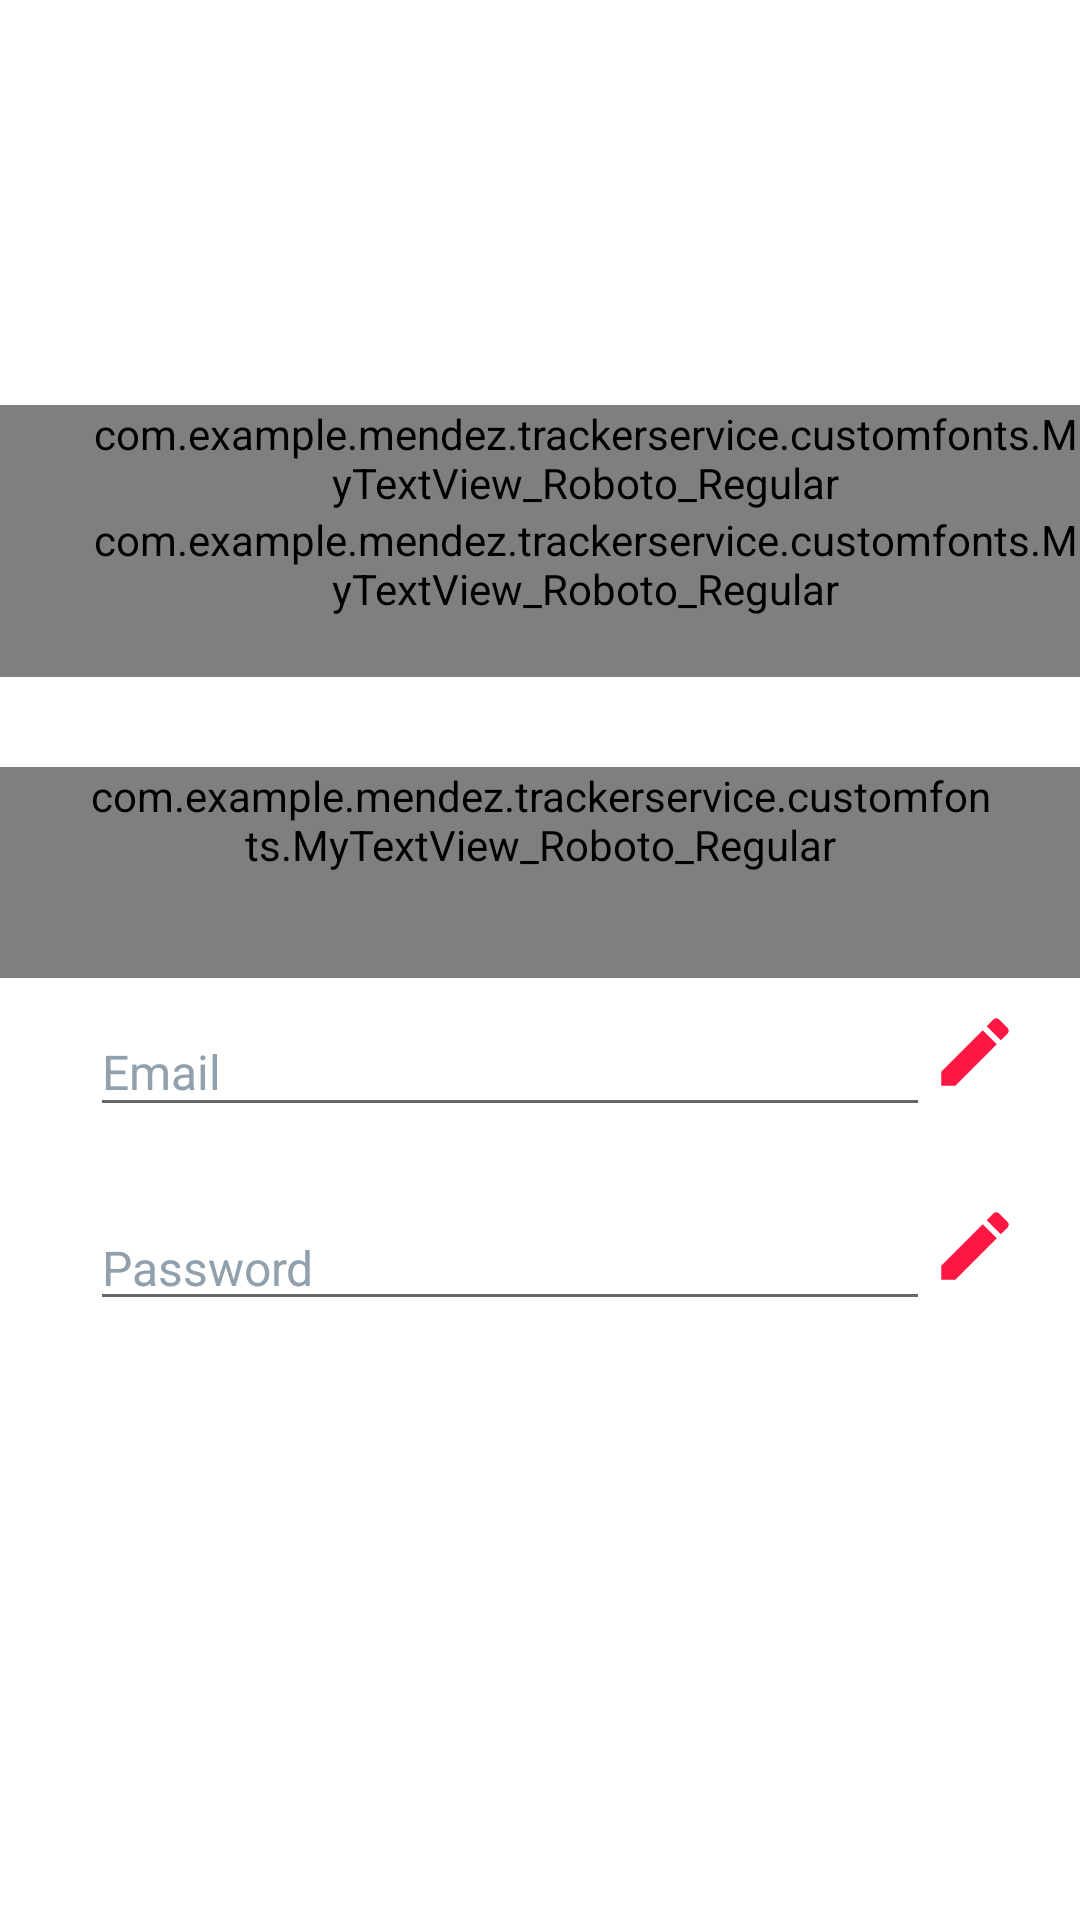

Where to tap for icons on this 1080 × 1920 app screen, as (x=x, y=y):
editar: (x=975, y=1052), (x=975, y=1246)
